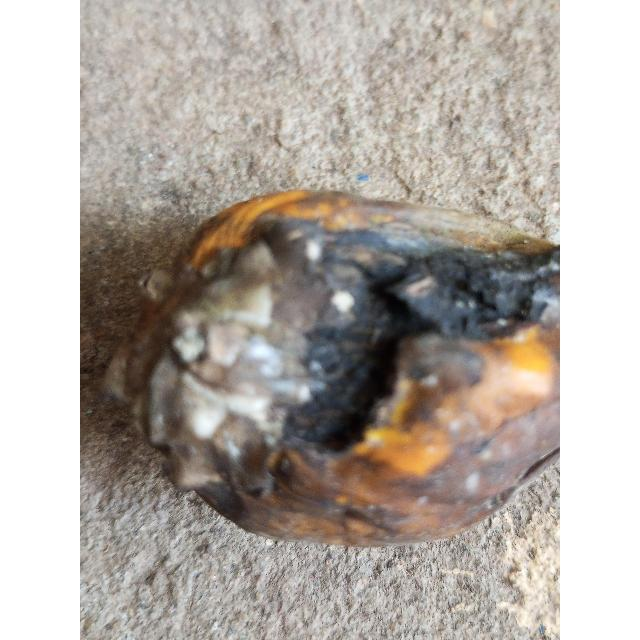damaged: (104, 190, 560, 545)
